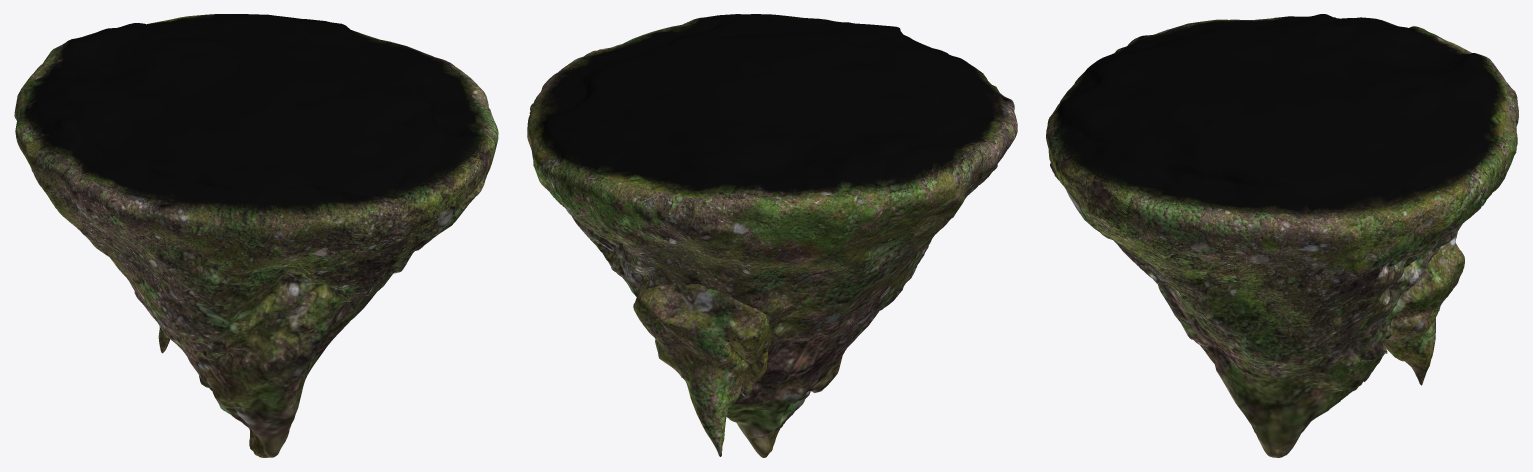
File: islet.glb
The picture shows the model from 3 angles, left to right: view 1: azimuth 30°, elevation 25°; view 2: azimuth 150°, elevation 25°; view 3: azimuth 270°, elevation 25°; orthographic projection. The views are drawn at different scales.
Parts seen in each view (by area): view 1: Floating_Island_high; view 2: Floating_Island_high; view 3: Floating_Island_high.
Part boxes in pixels (<box>): Floating_Island_high: <box>14,14,498,457</box>; Floating_Island_high: <box>527,14,1017,457</box>; Floating_Island_high: <box>1046,14,1518,457</box>.
Bounding box in the file's own units: 16.59 × 14.04 × 16.65.
Materials: 1 (1 with a texture image).
